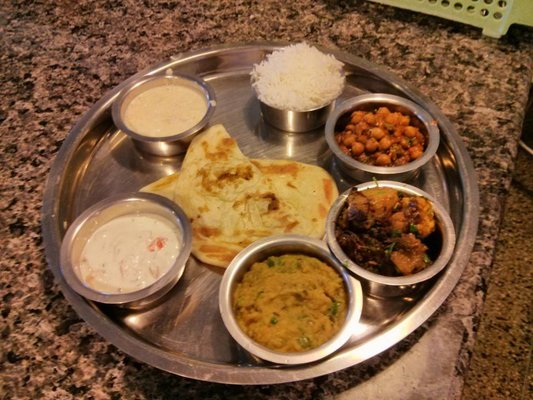sushi: (219, 237, 363, 368), (61, 195, 193, 311), (325, 182, 456, 294), (324, 91, 441, 181), (110, 74, 216, 158)
